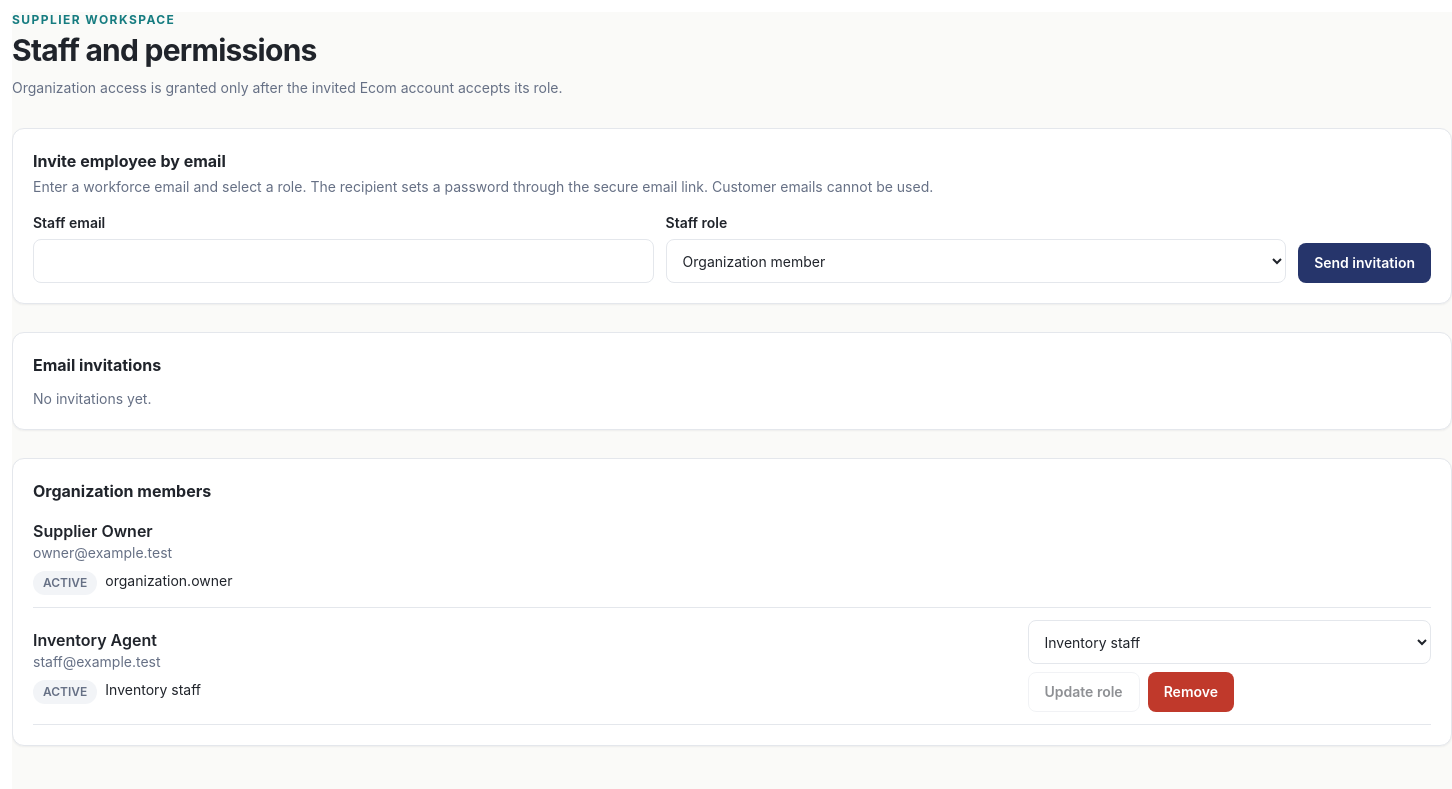
Scenario: supplier staff and permissions UI › does not claim an invitation succeeded when its API fails
The width and height of the screenshot is (1452, 789).
Check: the text "Inventory Agent" is shown, box [33,630,157,650]
Type "unknown@example.test" into the field labelled "Staff email" at (343, 261), box [33,239,654,283]
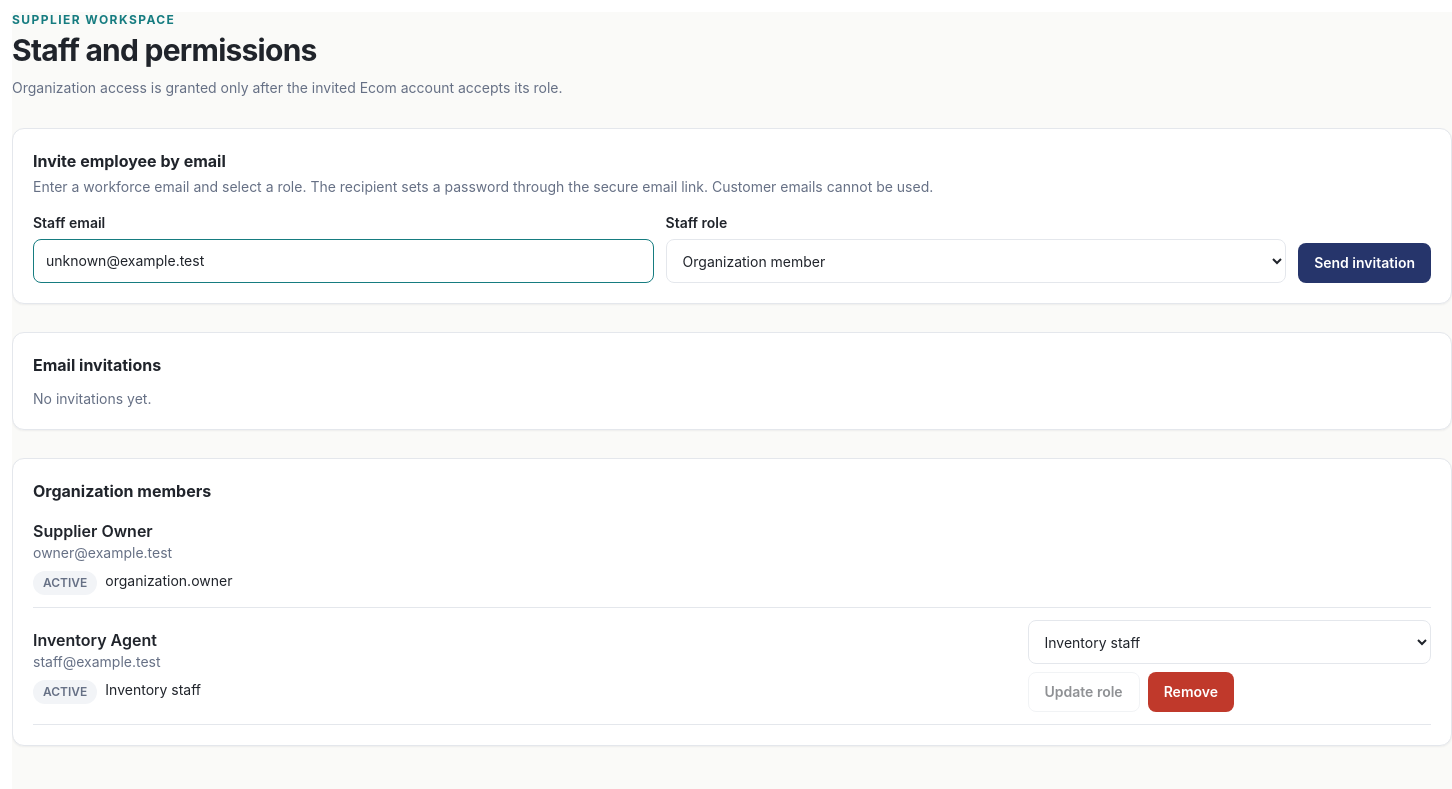
Click the button "Send invitation" at (1365, 263), box [1298,243,1431,283]
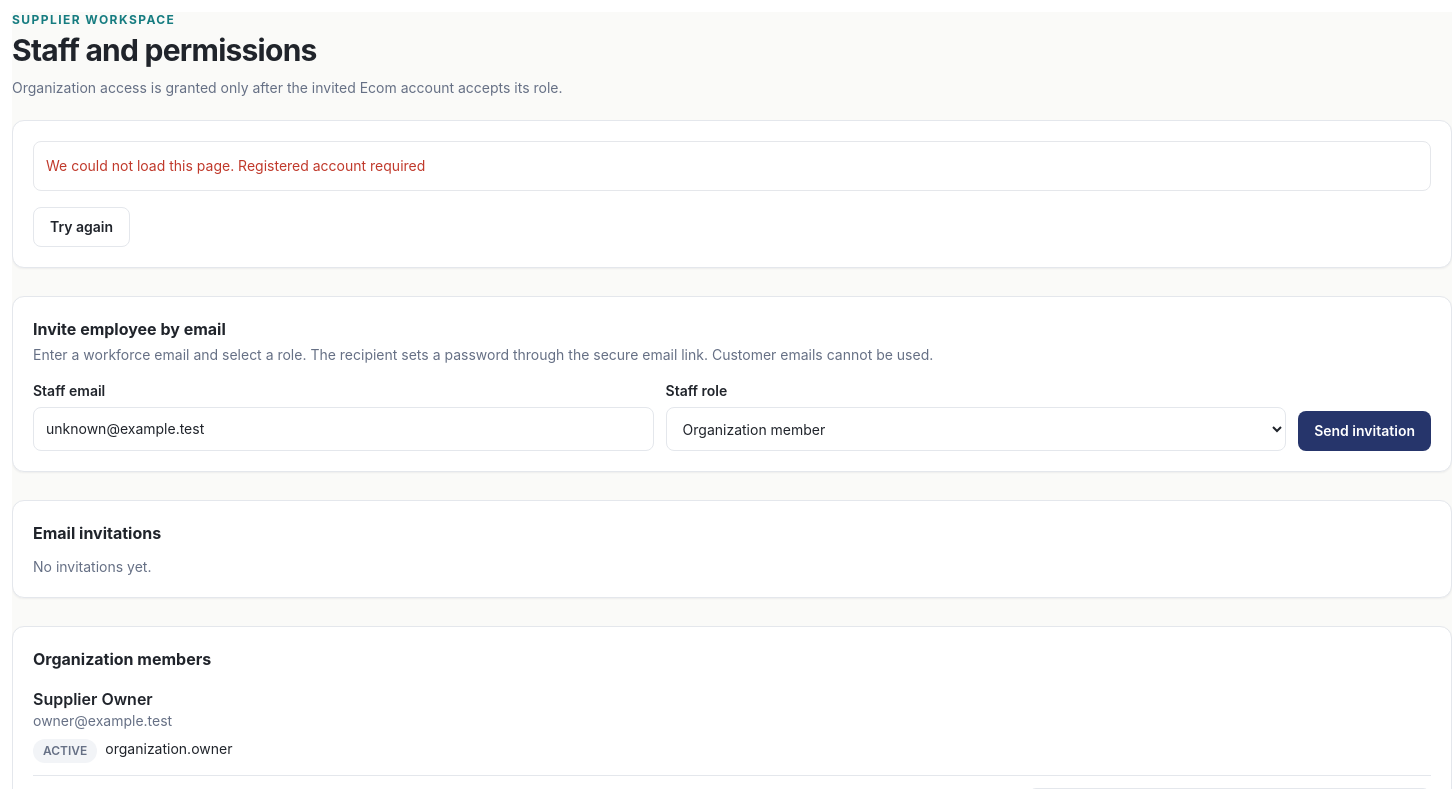
Check: the text "We could not load this page. Registered account required" is shown, box [33,141,1431,191]
